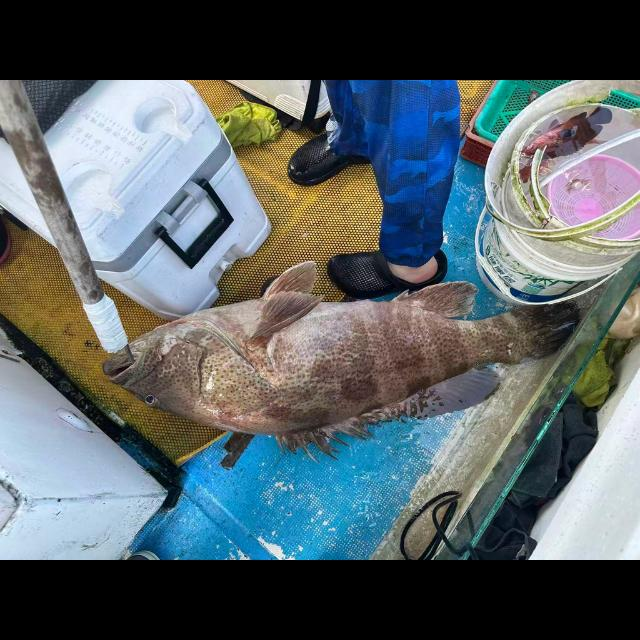Groupers: (100, 260, 582, 462)
